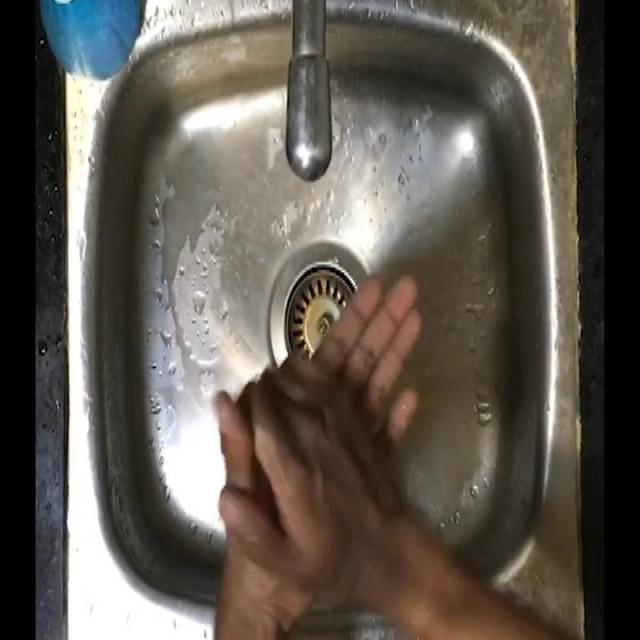step_5: (199, 267, 429, 620)
